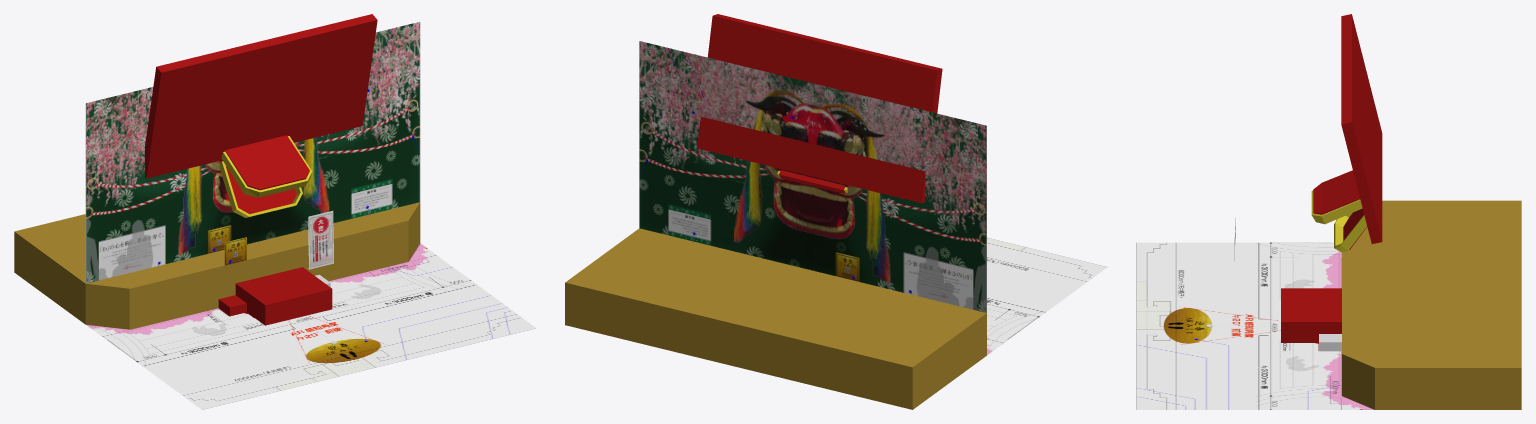
File: position_model_normal_v3.fbx
The picture shows the model from 3 angles, left to right: view 1: azimuth 30°, elevation 25°; view 2: azimuth 150°, elevation 25°; view 3: azimuth 270°, elevation 25°; orthographic projection. The views are drawn at different scales.
Parts seen in each view (by area): view 1: front, FLOOR, inside_mouth, Stage, Step_C, teeth, omikuji, Plane004; view 2: front, Stage, inside_mouth, FLOOR; view 3: Stage, FLOOR, inside_mouth, Step_C, teeth, Step_R.
Boxes of the visible parts, left/top/right/bottom form: front: left=85, top=22, right=420, bottom=283; FLOOR: left=86, top=243, right=536, bottom=409; inside_mouth: left=145, top=14, right=377, bottom=214; Stage: left=14, top=202, right=420, bottom=329; Step_C: left=235, top=267, right=332, bottom=325; teeth: left=219, top=136, right=312, bottom=217; omikuji: left=308, top=210, right=333, bottom=269; Plane004: left=224, top=237, right=246, bottom=265; front: left=639, top=41, right=986, bottom=312; Stage: left=565, top=228, right=986, bottom=409; inside_mouth: left=697, top=14, right=942, bottom=203; FLOOR: left=987, top=237, right=1107, bottom=355; Stage: left=1342, top=200, right=1521, bottom=409; FLOOR: left=1136, top=242, right=1374, bottom=409; inside_mouth: left=1313, top=14, right=1382, bottom=249; Step_C: left=1281, top=288, right=1341, bottom=342; teeth: left=1311, top=170, right=1366, bottom=252; Step_R: left=1319, top=334, right=1341, bottom=351.
Bounding box in the file's own units: 5.98 × 4.3 × 5.81.
6 materials, 3 textured.
